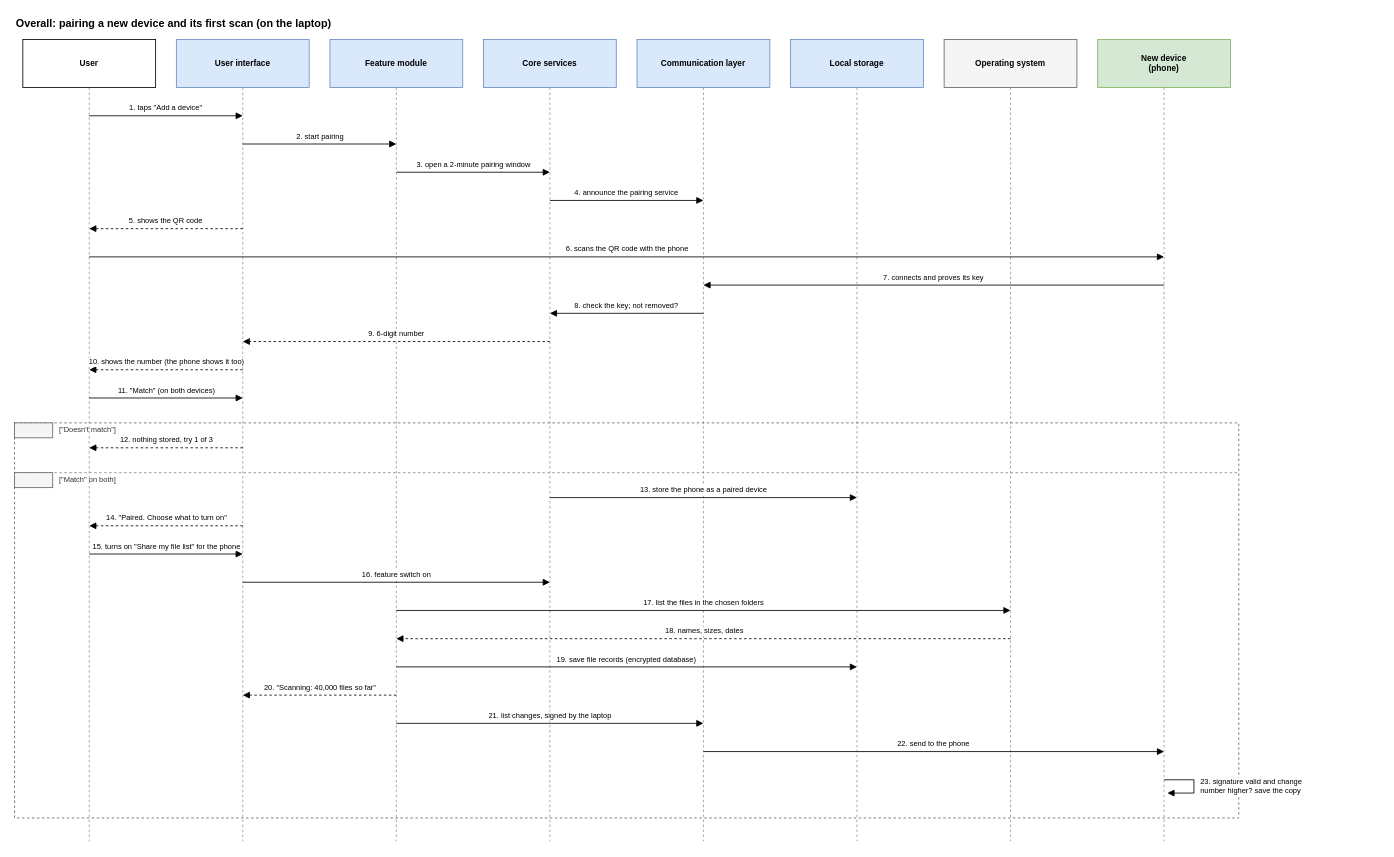
Some shapes in this 1394 by 857 pixel diagram are drawn without their labels. The shapes that lost their labels are listed below. From the top down, each one's centre as x and y in pixels, then its label:
the point at 33,430: alt
the point at 33,480: else
